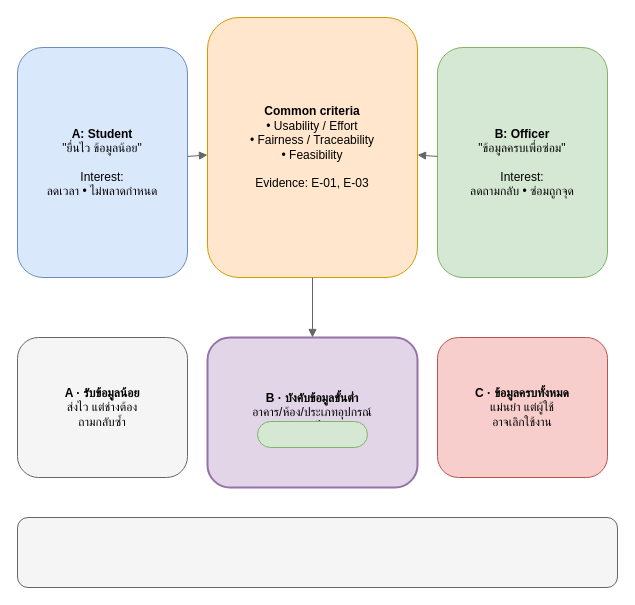
The diagram is 635 pixels wide and 605 high, and some of its shapes have lost their labels. The shapes that lost their labels are listed below. From the top down, each one's box as (x1, y1, x2, y2) in pixels, then its label:
(256, 420, 368, 448): PROVISIONAL
(16, 516, 618, 588): Decision: Provisional (Option B) · Derived: RC-F-01, RC-F-02
